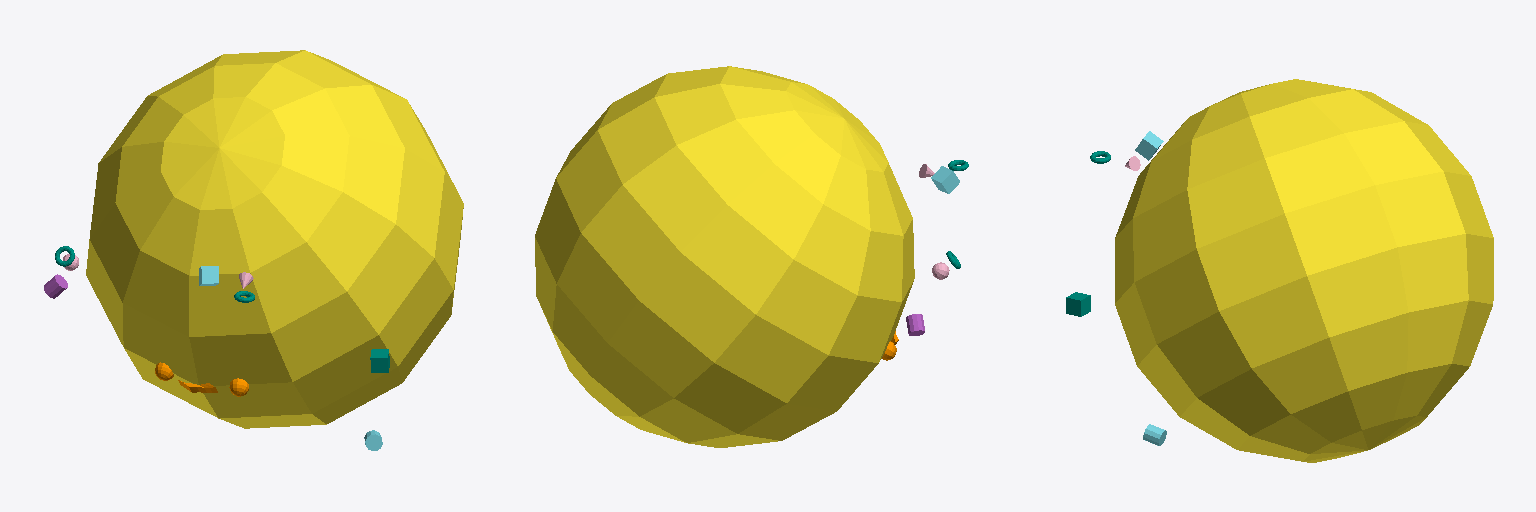
3 renders of one model, left to right at view 1: azimuth 30°, elevation 25°; view 2: azimuth 150°, elevation 25°; view 3: azimuth 270°, elevation 25°, orthographic.
Parts seen in each view (by area): view 1: group[number redacted]; view 2: group[number redacted]; view 3: group[number redacted].
Part boxes in pixels (left/top/right/bottom): group[number redacted]: left=44, top=50, right=463, bottom=450; group[number redacted]: left=535, top=66, right=968, bottom=447; group[number redacted]: left=1066, top=79, right=1493, bottom=462.
Bounding box in the file's own units: 2.31 × 1.97 × 2.19.